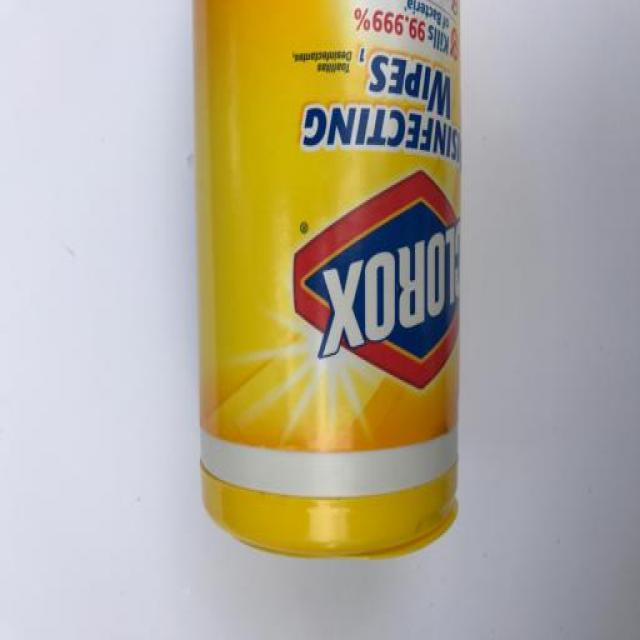plastic: (96, 1, 617, 574)
